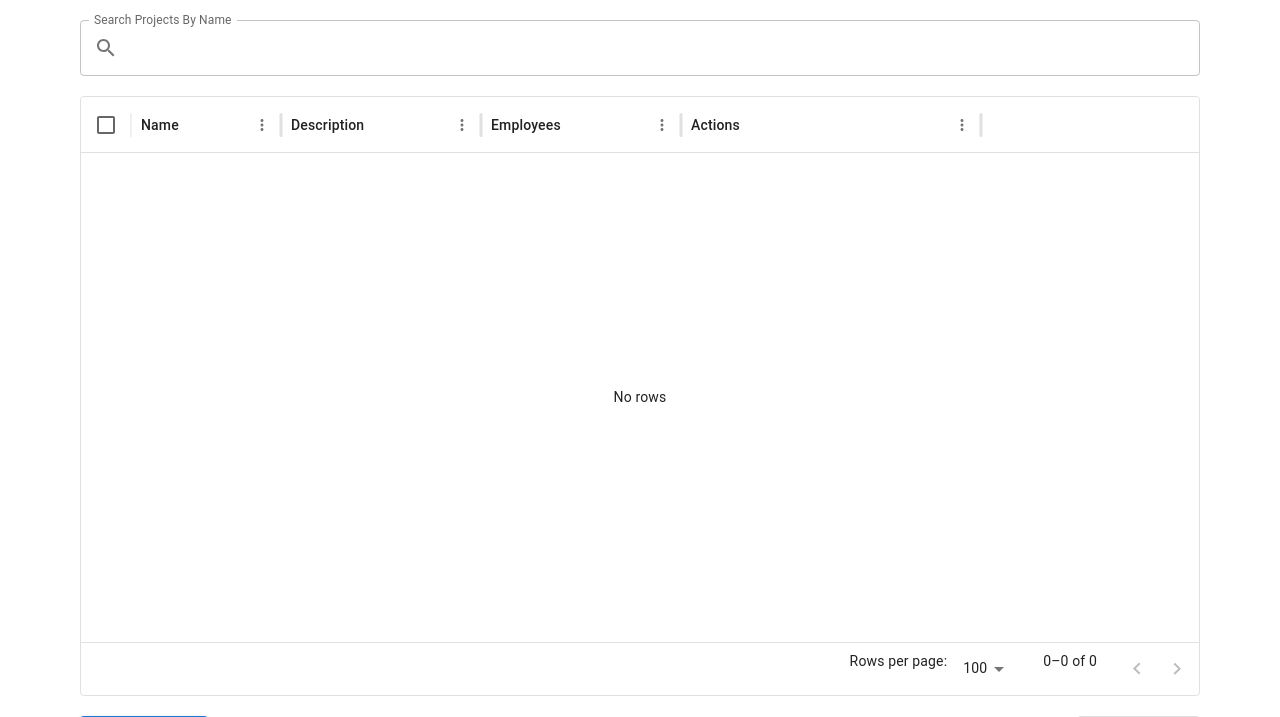
Test: ListProjectsComponent › handles search text clearing
Type "Project A" into the field labelled "Search Projects By Name" at (663, 48), box [126,20,1200,76]
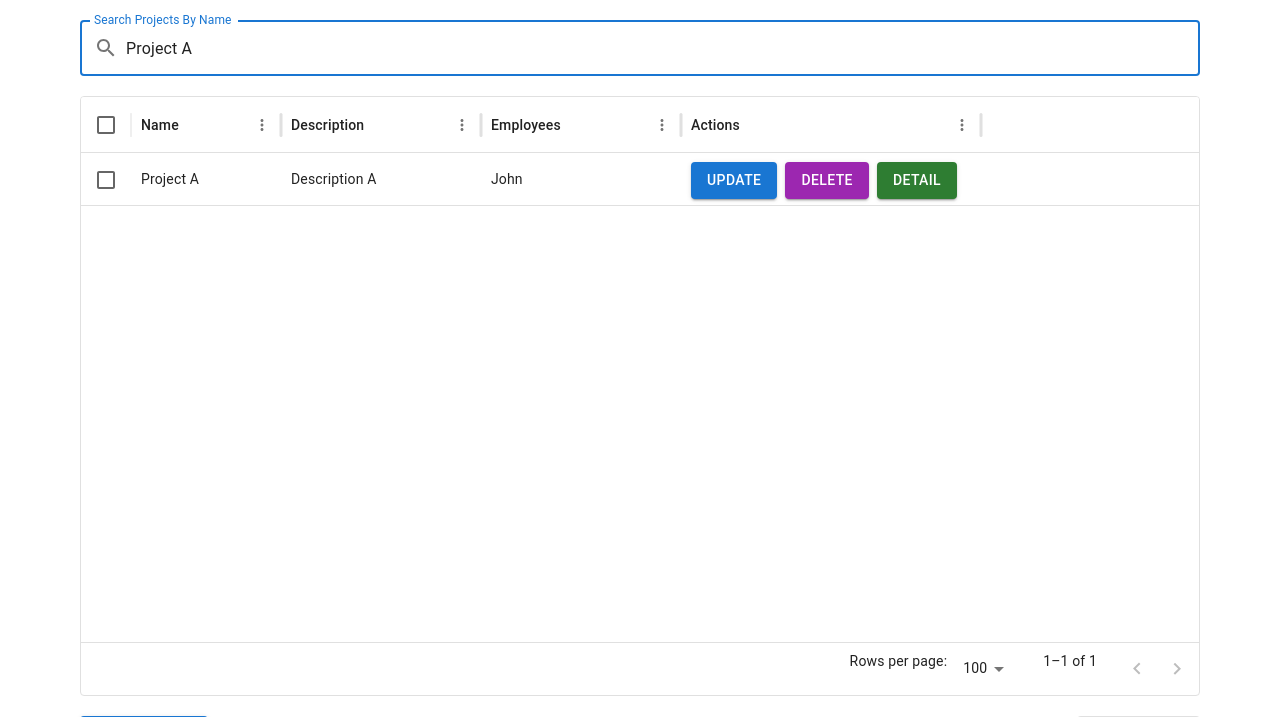
Clear the field labelled "Search Projects By Name" at (663, 48), box [126,20,1200,76]
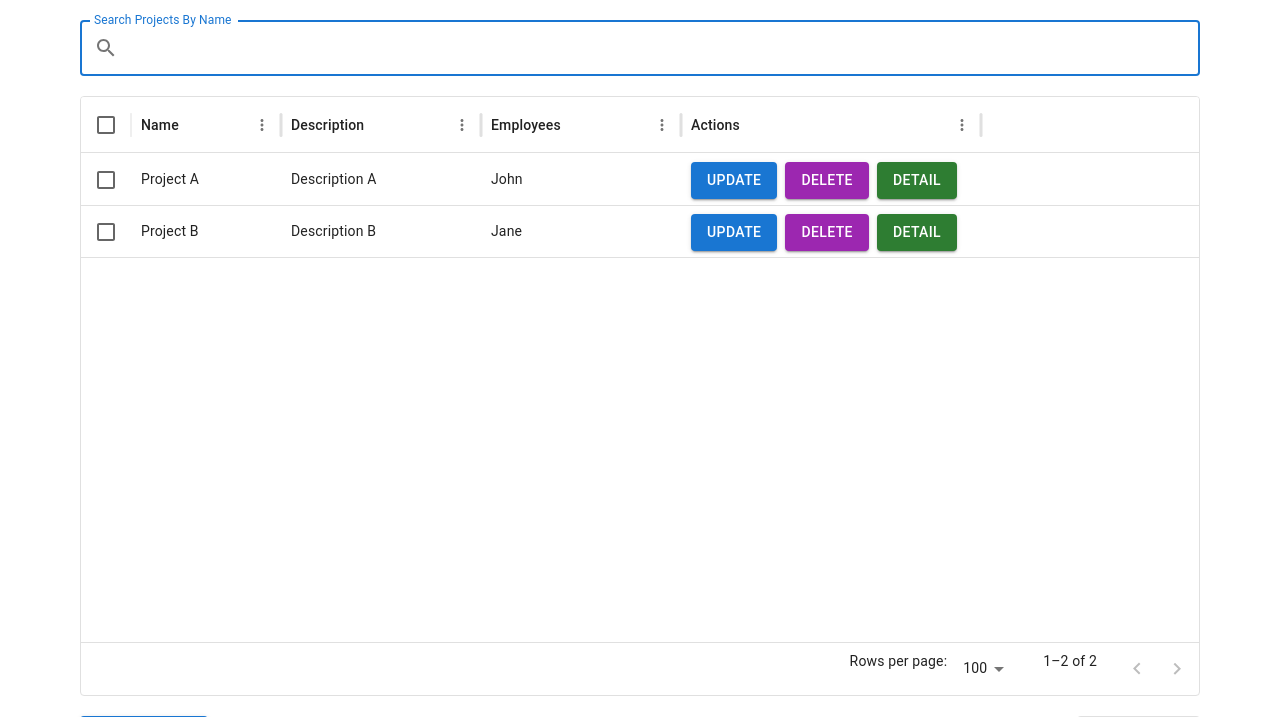
Expected: the text "Project A" is shown, [141,171,199,187]
Expected: the text "Project B" is shown, [131,205,281,257]
